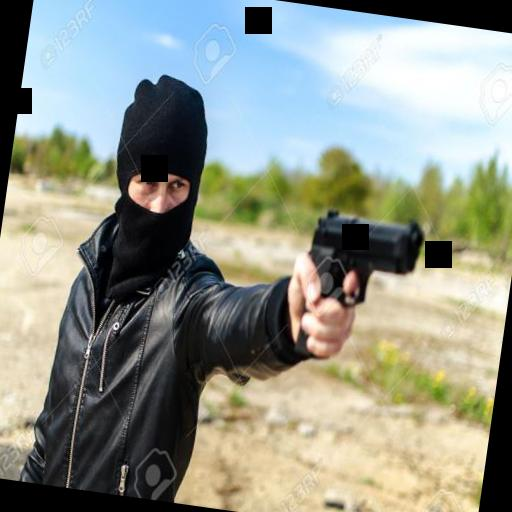Handgun: (282, 202, 427, 370)
